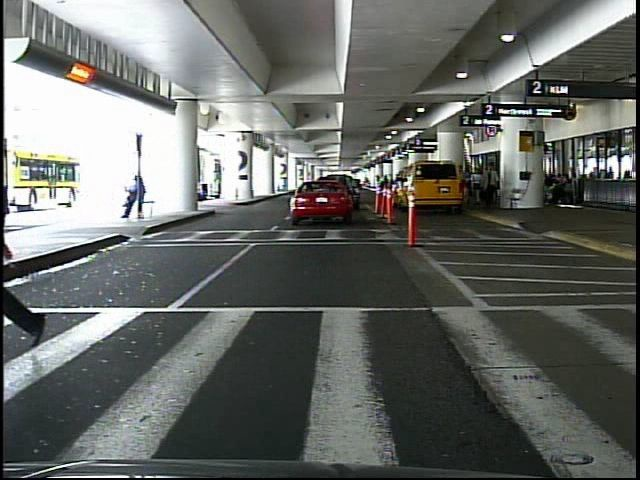person: (1, 125, 25, 349), (482, 163, 499, 209)
